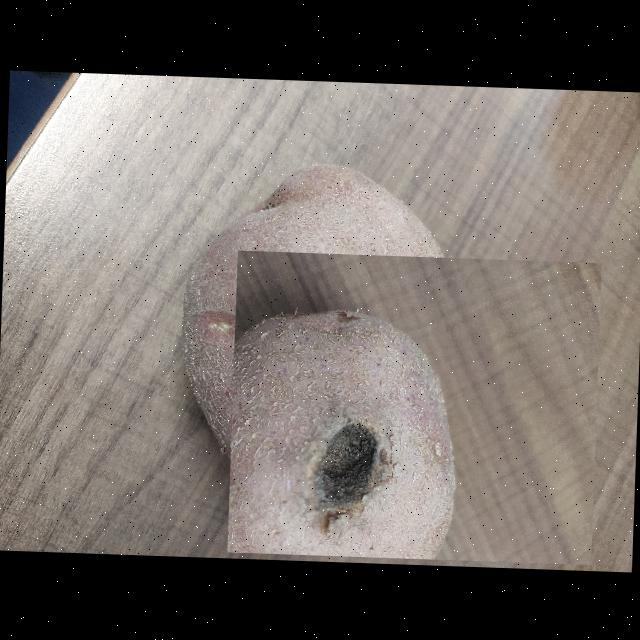Damaged potato: (226, 248, 600, 564)
